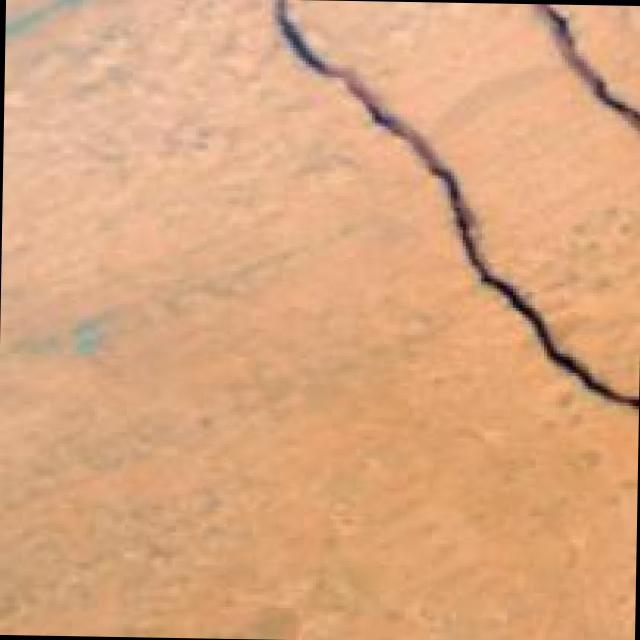crack: (251, 1, 640, 437)
